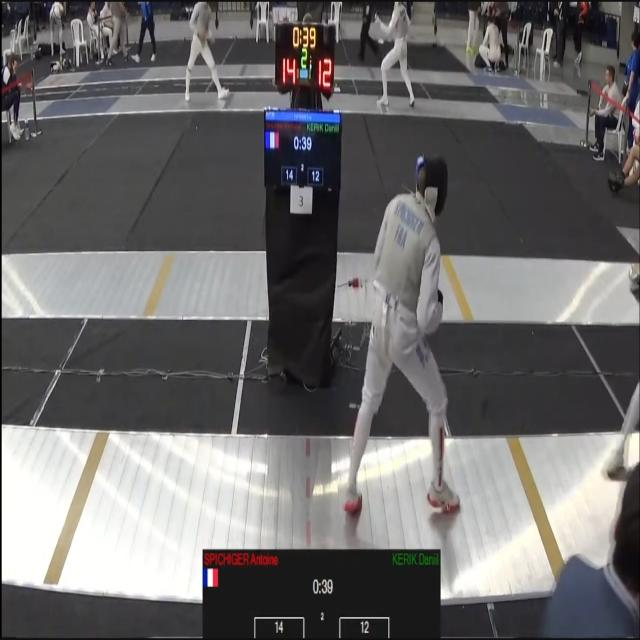fencer: (366, 149, 468, 533)
overlayLeft: (203, 549, 308, 610)
overlayRight: (338, 554, 440, 606)
scoreLeft: (270, 622, 301, 640)
scoreRight: (345, 620, 375, 640)
